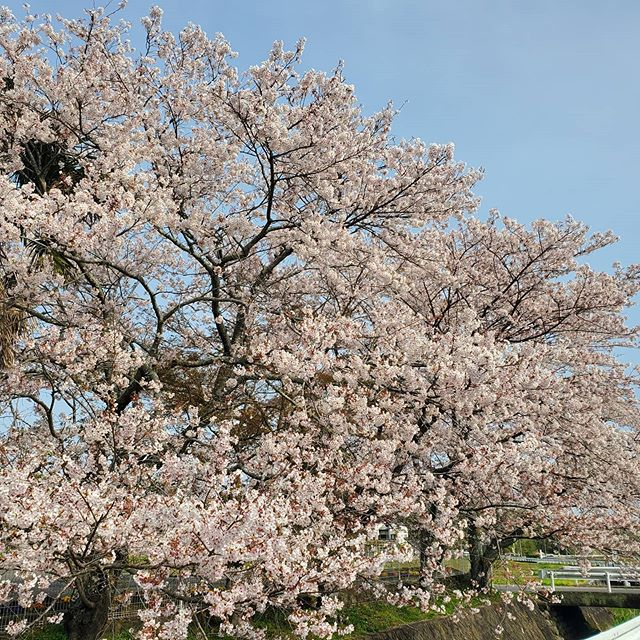bridge: (476, 550, 640, 631)
building: (1, 418, 372, 640), (422, 204, 640, 521)
sky: (315, 1, 640, 210)
tree: (1, 10, 454, 418)
